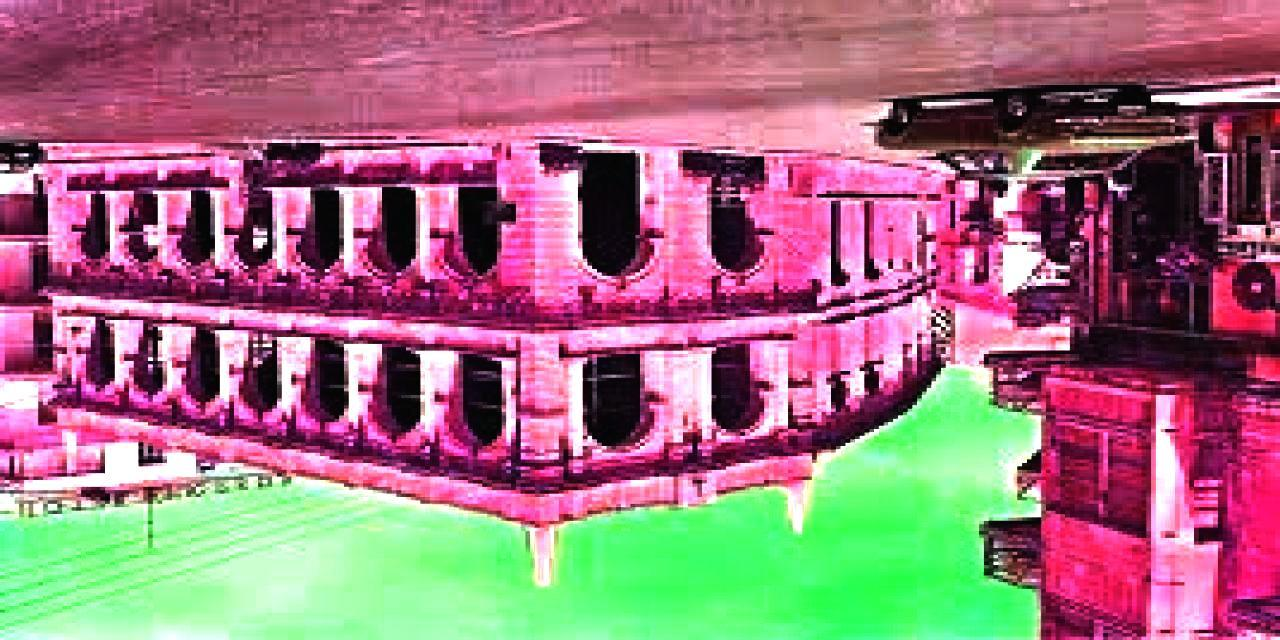Loggia: (44, 143, 963, 600)
